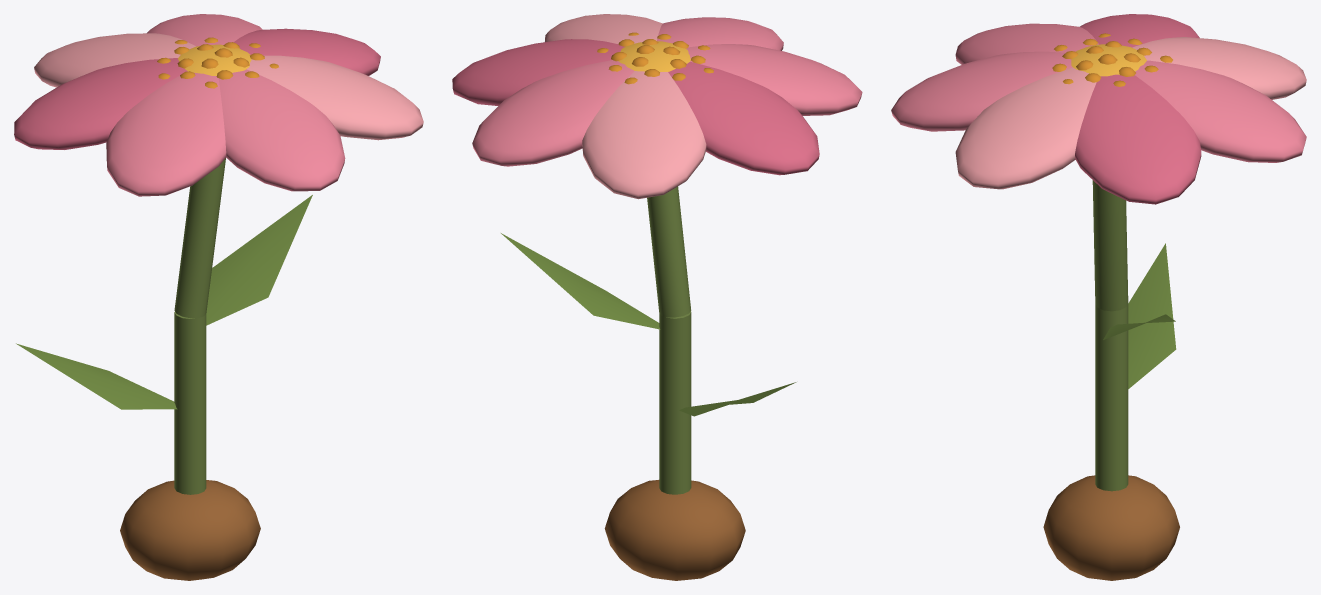
File: desert-flower.glb
The picture shows the model from 3 angles, left to right: view 1: azimuth 30°, elevation 25°; view 2: azimuth 150°, elevation 25°; view 3: azimuth 270°, elevation 25°; orthographic projection. The views are drawn at different scales.
Parts seen in each view (by area): view 1: petală (×7), desert-flower, frunză (×2), corolă; view 2: petală (×7), desert-flower, frunză (×2), corolă; view 3: petală (×7), desert-flower, frunză, corolă.
Part boxes in pixels (<box>): petală (×7): <box>14,14,423,196</box>; desert-flower: <box>120,158,260,580</box>; frunză (×2): <box>16,195,312,409</box>; corolă: <box>157,37,278,88</box>; petală (×7): <box>452,14,862,199</box>; desert-flower: <box>604,186,745,580</box>; frunză (×2): <box>501,233,796,416</box>; corolă: <box>597,32,713,84</box>; petală (×7): <box>891,14,1306,204</box>; desert-flower: <box>1043,180,1179,580</box>; frunză: <box>1128,243,1176,388</box>; corolă: <box>1052,33,1172,86</box>.
Bounding box in the file's own units: 0.5377 × 0.7476 × 0.5289.
